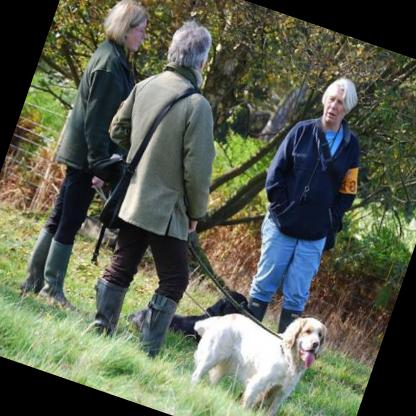clumber: (171, 276, 332, 416)
